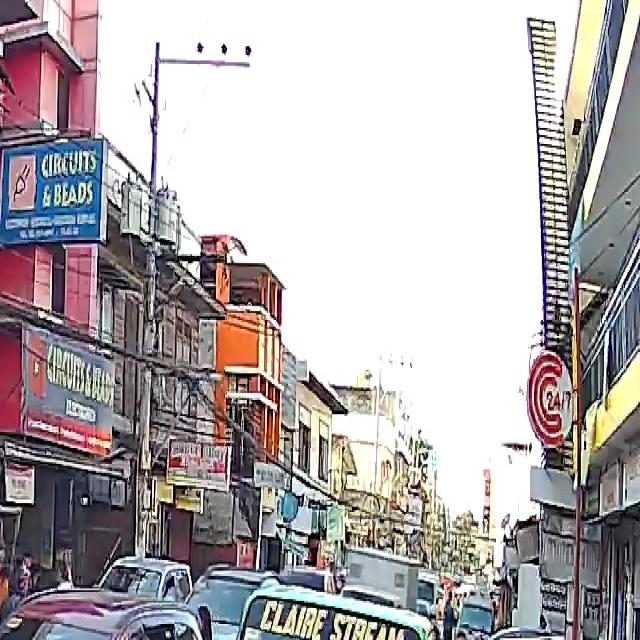car: (0, 595, 210, 640), (102, 559, 196, 608), (470, 631, 640, 640)
